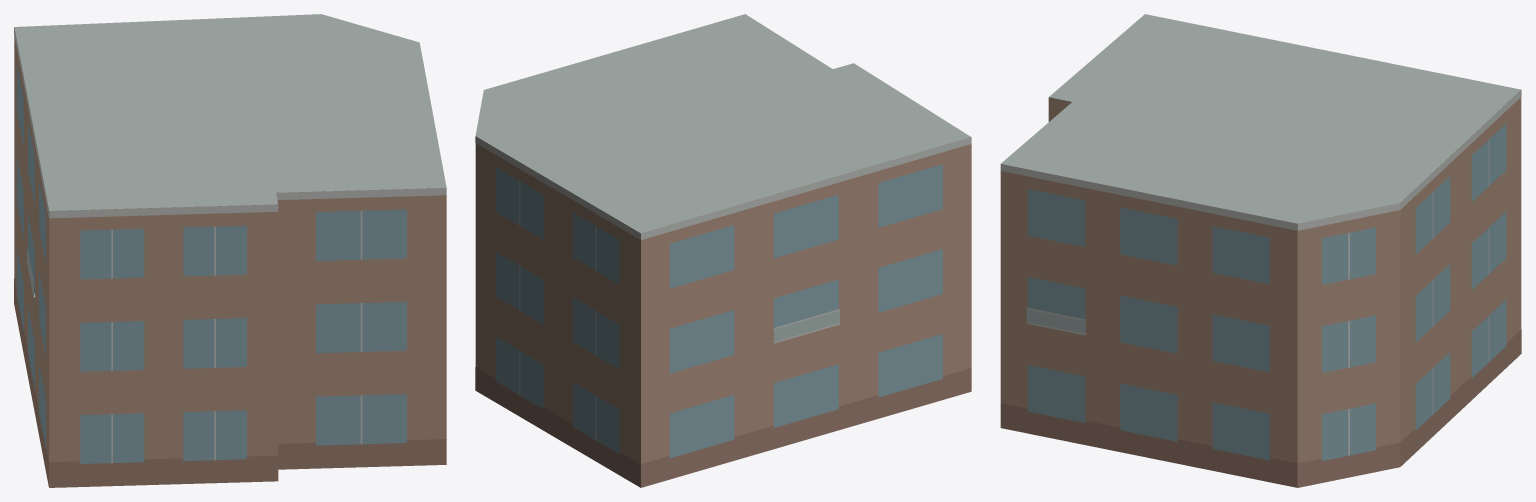
File: survey-upis-32682058.glb
3 views of the same model, side by side, from view 1: azimuth 30°, elevation 25°; view 2: azimuth 150°, elevation 25°; view 3: azimuth 270°, elevation 25° (orthographic). The views are drawn at different scales.
Parts seen in each view (by area): view 1: survey-upis-32682058.tmp; view 2: survey-upis-32682058.tmp; view 3: survey-upis-32682058.tmp.
Part boxes in pixels (left/top/right/bottom): survey-upis-32682058.tmp: left=14, top=14, right=446, bottom=487; survey-upis-32682058.tmp: left=475, top=14, right=971, bottom=487; survey-upis-32682058.tmp: left=1000, top=14, right=1521, bottom=487.
Size of the model in its own units: 15.59 by 9.15 by 16.36.
